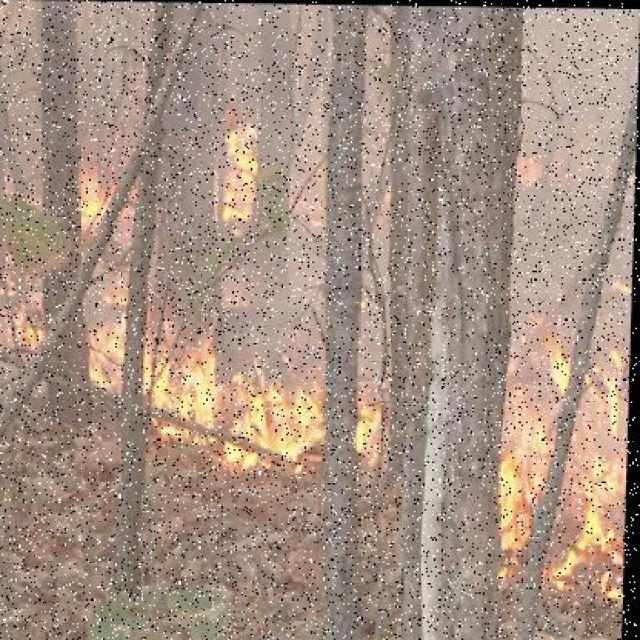fire: (513, 346, 632, 570), (141, 329, 319, 444), (211, 117, 274, 231), (520, 137, 554, 196), (83, 160, 108, 225)
